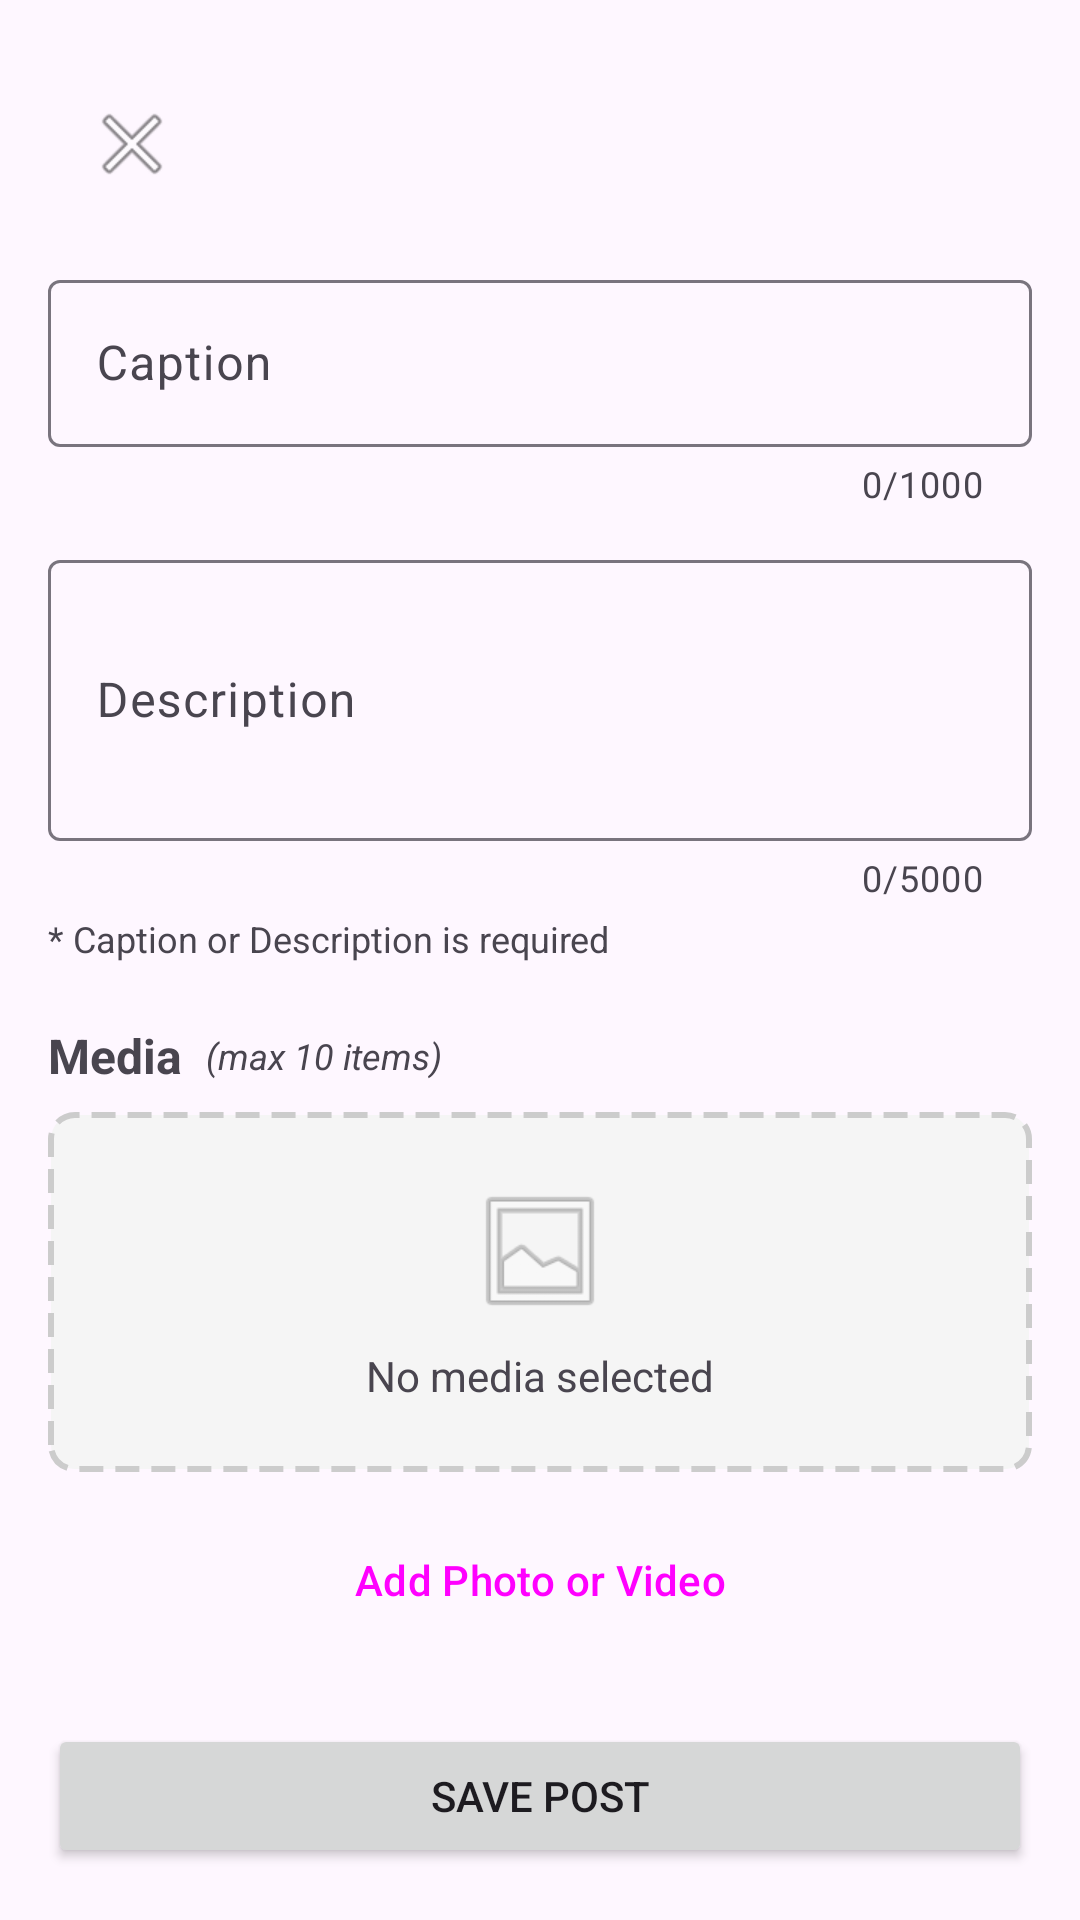

Point at icon controls on the screen. Image size 1080px x 1920px, points as point (x, y).
gallery: point (540, 1251)
